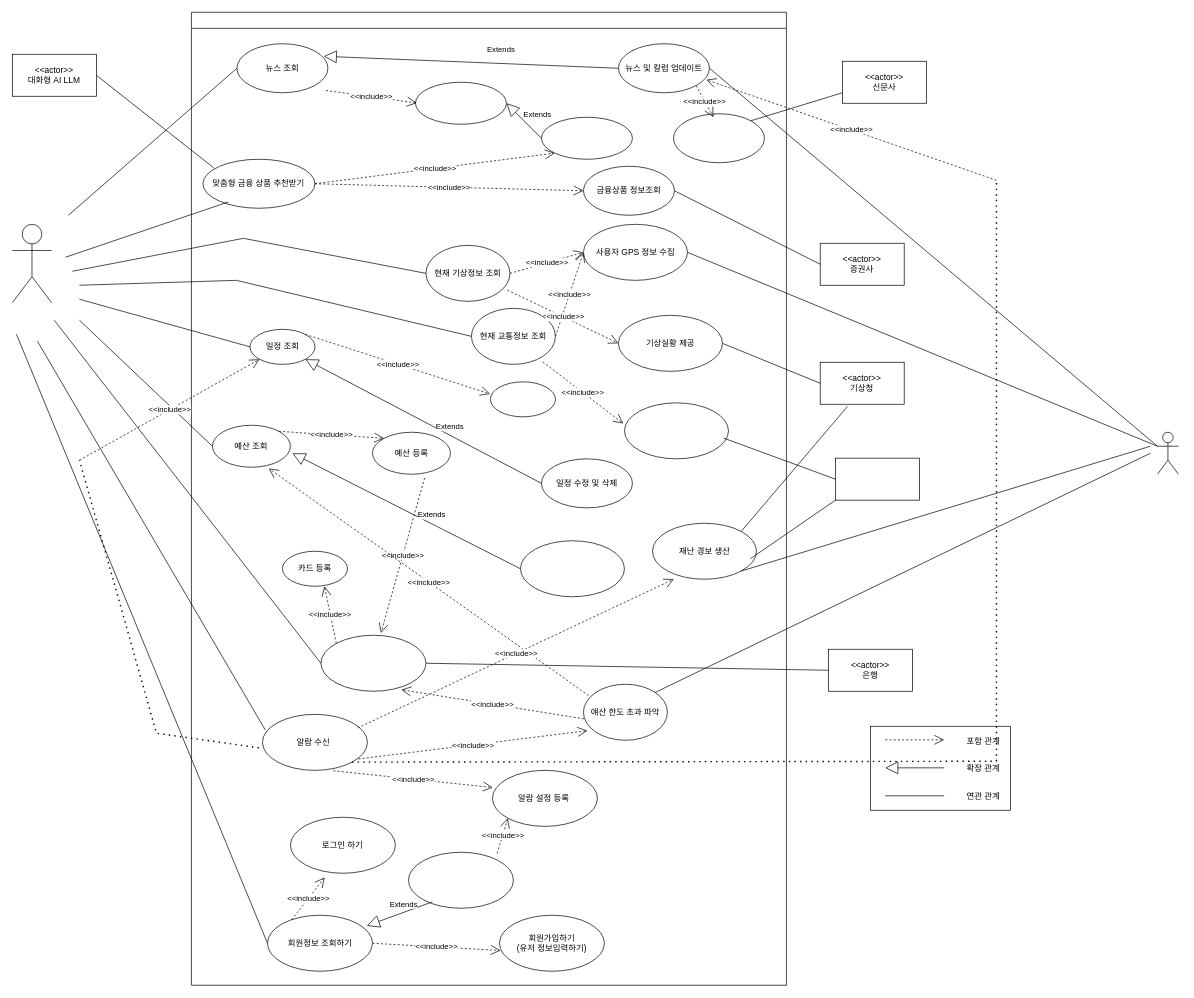
The diagram is 1194 pixels wide and 998 high, and some of its shapes have lost their labels. The shapes that lost their labels are listed below. From the top down, each one's box as (x1, y1, x2, y2) in pixels, then its label:
(415, 82, 506, 124): 관심분야 구독
(541, 117, 632, 159): 금융 관심분야 등록
(673, 113, 764, 163): 뉴스 및 칼럼 기고
(12, 224, 52, 303): User
(490, 381, 555, 417): 일정 등록
(624, 402, 728, 459): 교통상황정보 제공
(1157, 432, 1178, 474): System
(191, 12, 786, 985): 알림/추천 서비스
(835, 457, 919, 500): <<actor>> 교통공사
(520, 540, 624, 597): 예산 수정 및 삭제
(320, 635, 426, 691): 계좌 조회
(408, 852, 513, 908): 알림설정 조회
